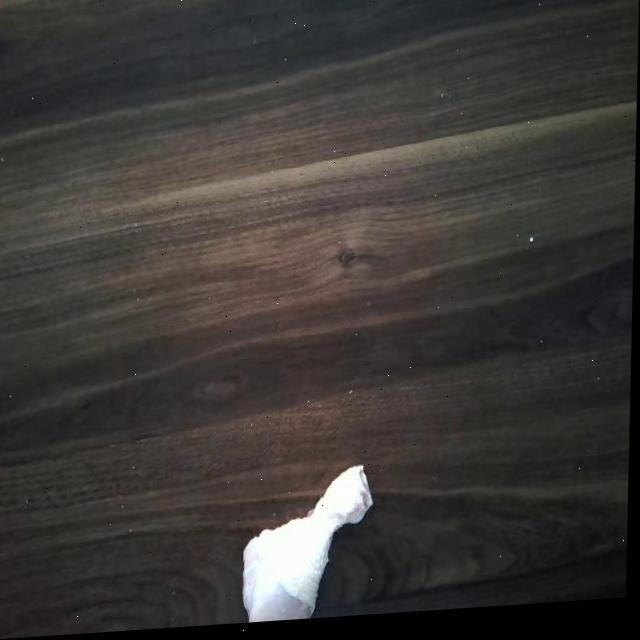leg: (240, 464, 376, 627)
